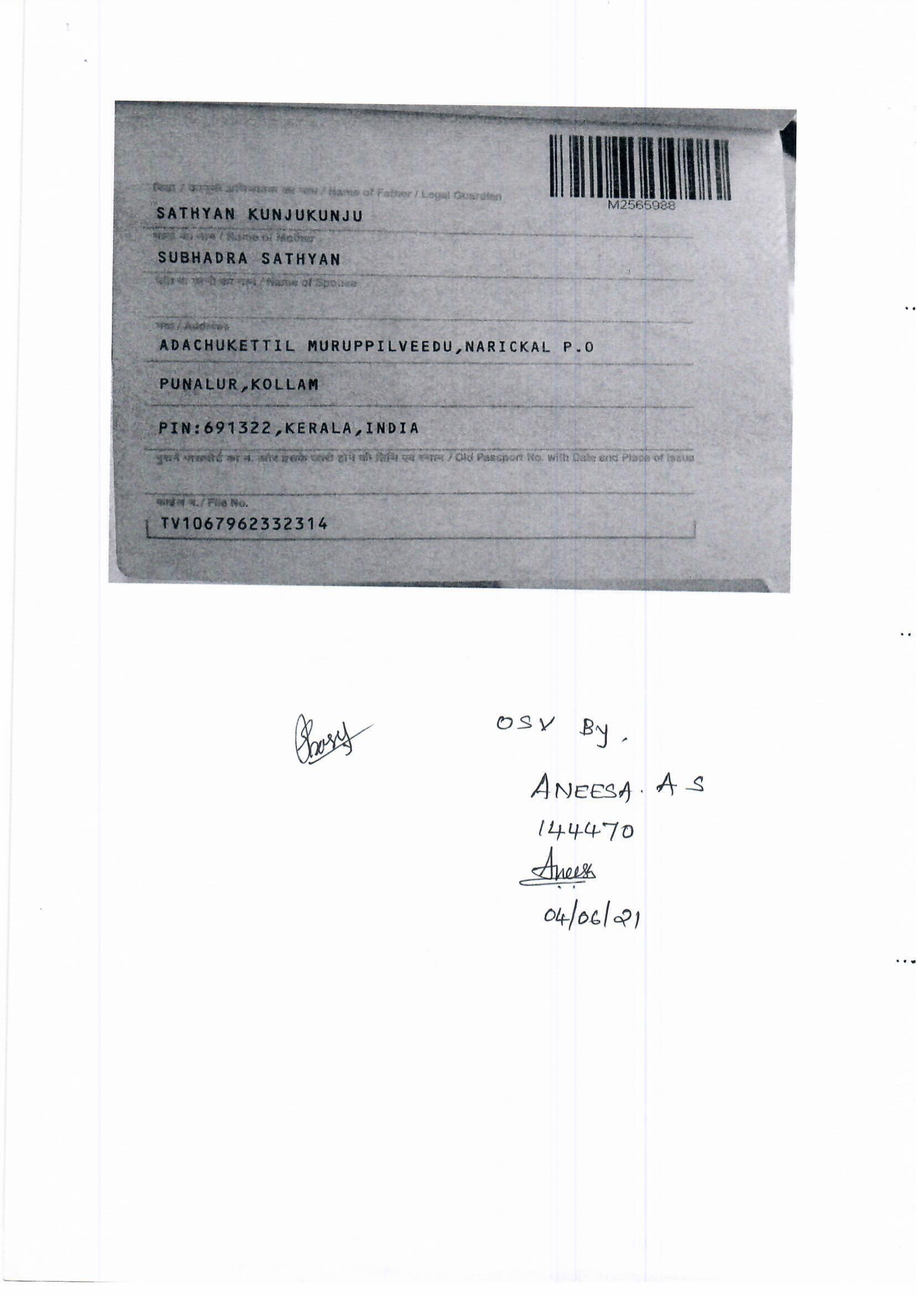File_no: (152, 505, 337, 535)
address: (149, 316, 617, 443)
father_name: (145, 195, 372, 231)
mother_name: (151, 244, 350, 276)
passport_no: (602, 194, 678, 220)
